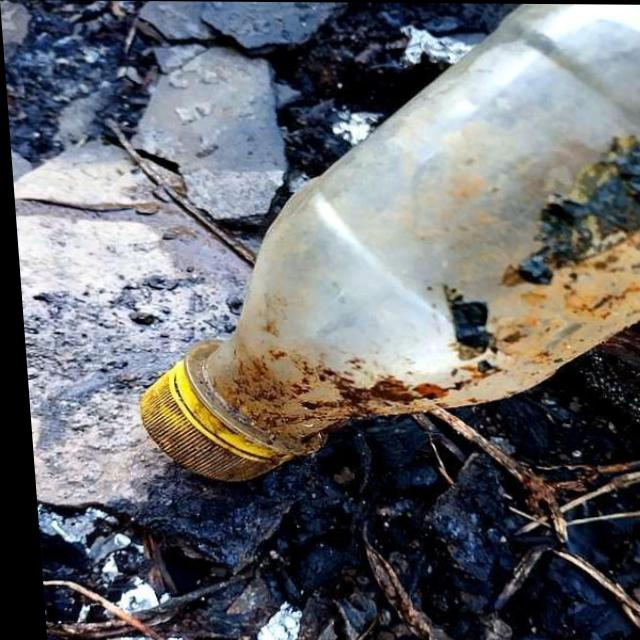Non-biodegradable: (114, 2, 640, 495)
